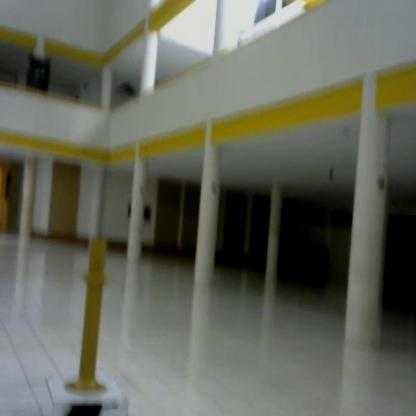pole: (60, 234, 127, 402)
